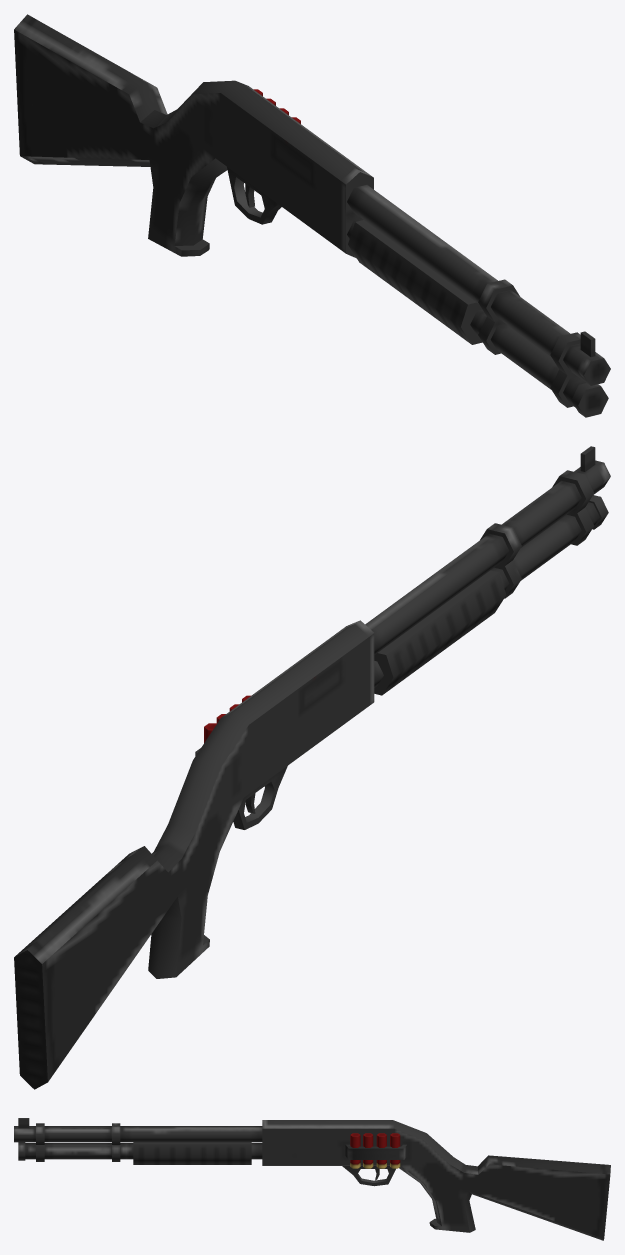
The picture shows the model from 3 angles, top to bottom: view 1: azimuth 30°, elevation 25°; view 2: azimuth 150°, elevation 25°; view 3: azimuth 270°, elevation 25°; orthographic projection. The views are drawn at different scales.
Parts seen in each view (by area): view 1: M870; view 2: M870; view 3: M870.
Boxes of the visible parts, left/top/right/bottom form: M870: left=14, top=14, right=610, bottom=417; M870: left=14, top=446, right=610, bottom=1089; M870: left=14, top=1118, right=610, bottom=1240.
Size of the model in its own units: 4.74 by 89.24 by 20.18.
